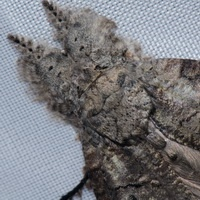insect: (8, 0, 199, 199)
